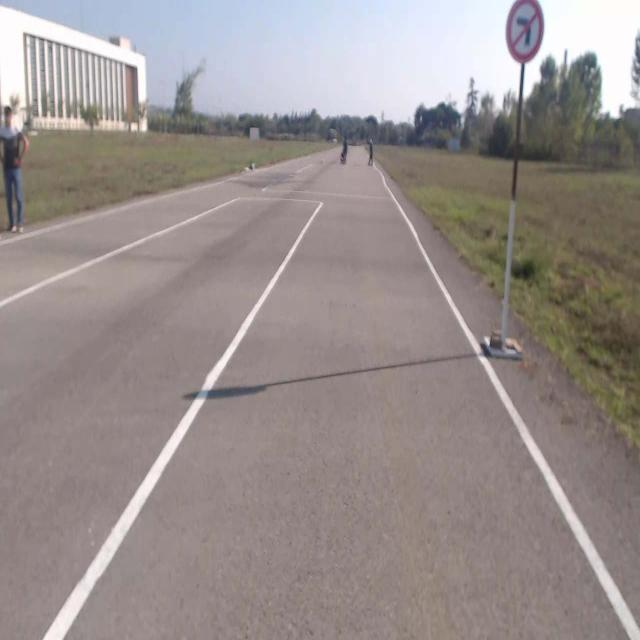soladonulmez: (506, 1, 544, 62)
